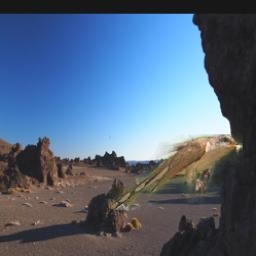Cuckoo: (109, 135, 243, 211)
